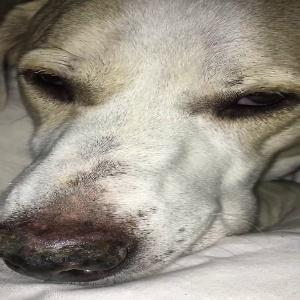keratosis: (0, 218, 134, 274)
